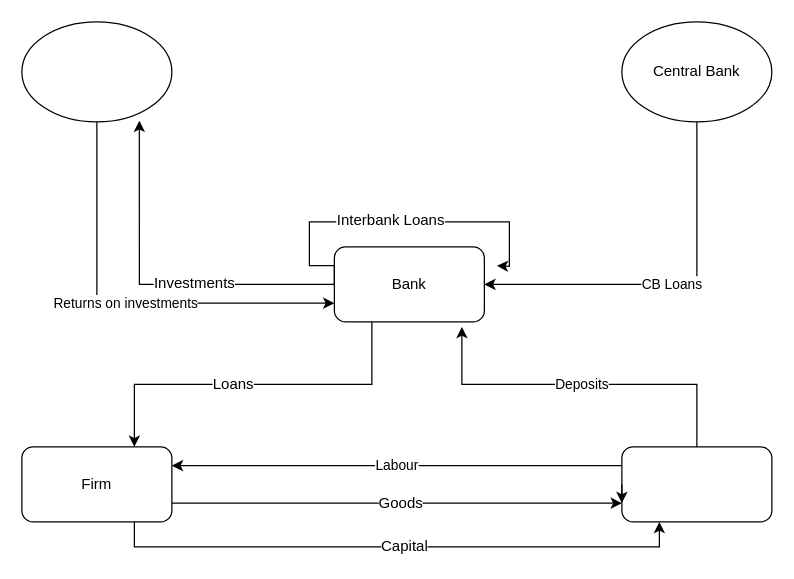
The diagram is 794 pixels wide and 579 high, and some of its shapes have lost their labels. Here are the shapes that lost their labels. From the top down, the centre of each, then its label:
the point at 96,71: Investment Pool
the point at 696,484: Household
